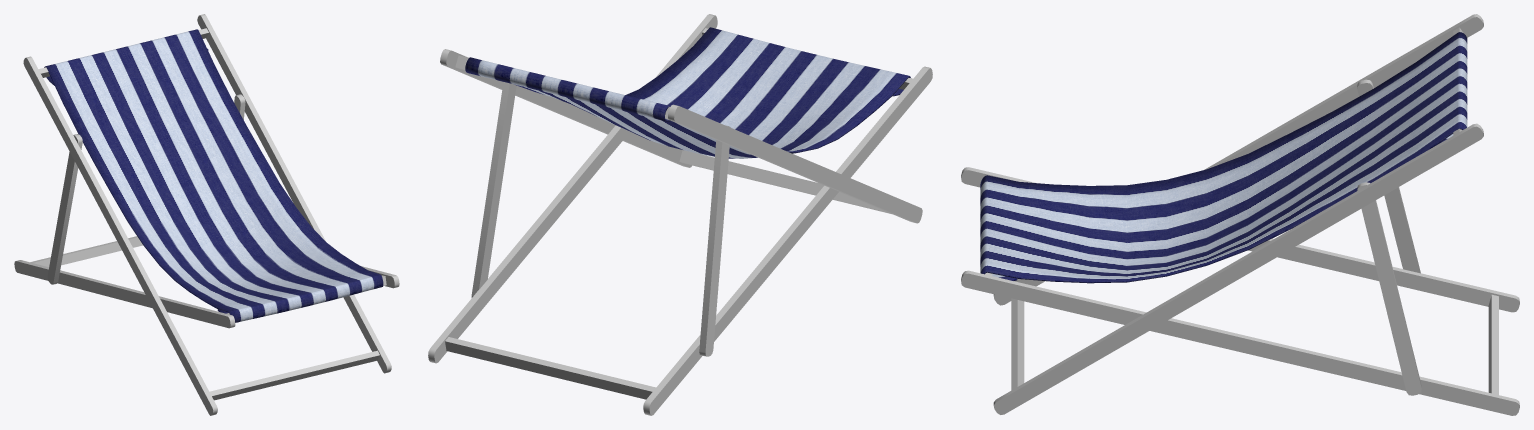
File: sunchair.obj
3 renders of one model, left to right at view 1: azimuth 30°, elevation 25°; view 2: azimuth 150°, elevation 25°; view 3: azimuth 270°, elevation 25°, orthographic. The views are drawn at different scales.
Visible parts, largest first — view 1: Fabric_BezierCurve_Material.001, Wood_Cube.001_Material.001; view 2: Wood_Cube.001_Material.001, Fabric_BezierCurve_Material.001; view 3: Fabric_BezierCurve_Material.001, Wood_Cube.001_Material.001.
Part boxes in pixels (x1,y1,x2,y2): Fabric_BezierCurve_Material.001: (44, 29, 383, 322); Wood_Cube.001_Material.001: (14, 14, 399, 415); Wood_Cube.001_Material.001: (428, 14, 932, 415); Fabric_BezierCurve_Material.001: (465, 27, 910, 158); Fabric_BezierCurve_Material.001: (980, 32, 1467, 283); Wood_Cube.001_Material.001: (961, 14, 1519, 415).
Size of the model in its own units: 91.44 by 111 by 191.
2 materials, 1 textured.
